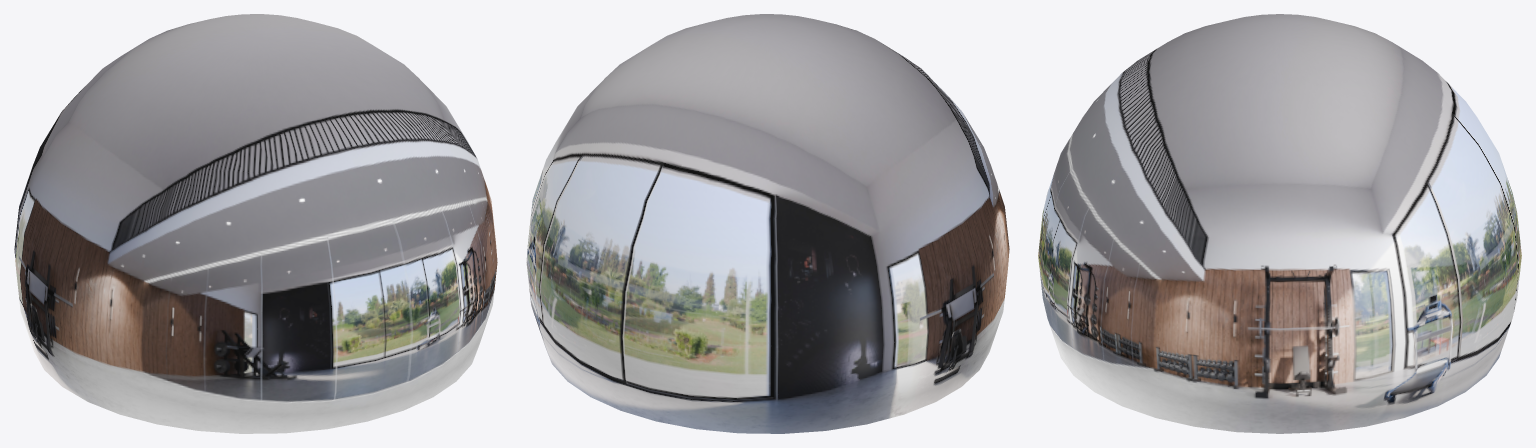
Rendered from Teretanka.glb.
3 renders of one model, left to right at view 1: azimuth 30°, elevation 25°; view 2: azimuth 150°, elevation 25°; view 3: azimuth 270°, elevation 25°, orthographic.
Visible parts, largest first — view 1: Sphere; view 2: Sphere; view 3: Sphere.
Part boxes in pixels (x1,y1,x2,y2): Sphere: [14, 14, 497, 433]; Sphere: [526, 14, 1009, 433]; Sphere: [1038, 14, 1521, 433].
Size of the model in its own units: 6 by 4.15 by 6.
1 material, 1 textured.
